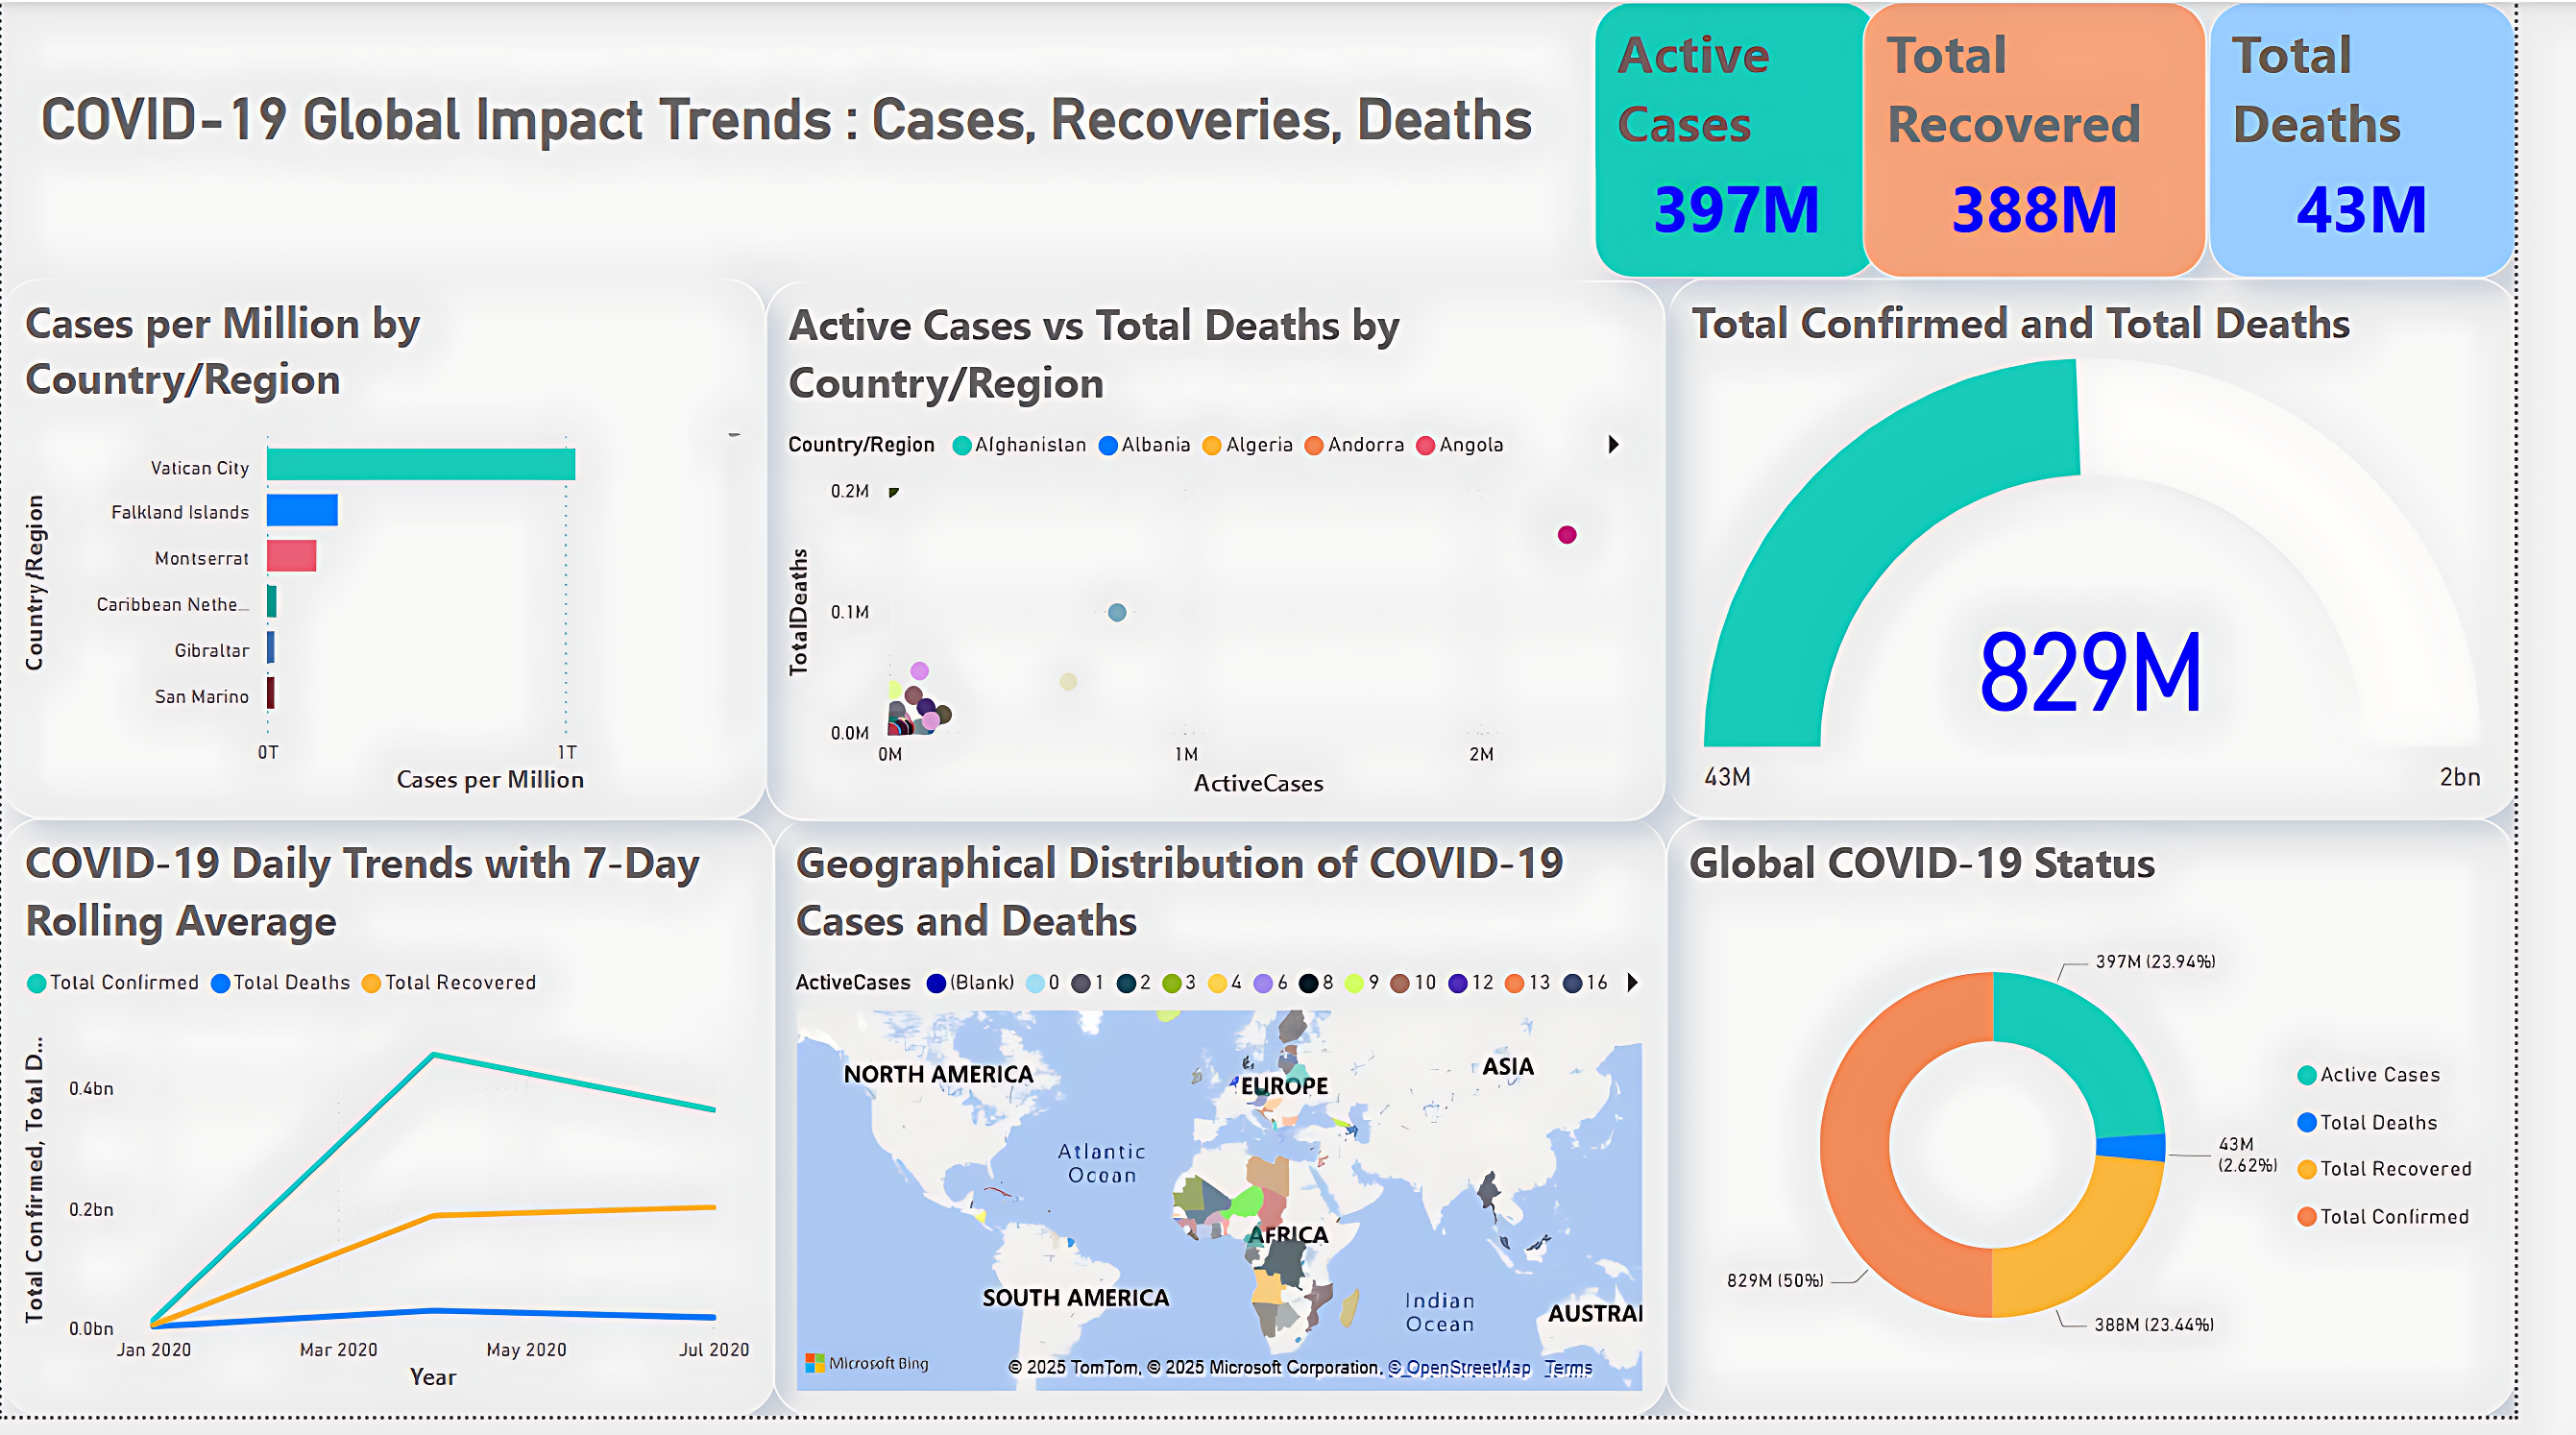

This screenshot's page, from the dashboard's own definition file:
{"tool":"powerbi","page":{"name":"Page 1","canvas":[1280,720],"ordinal":0},"visuals":[{"type":"card","title":"Active Cases","fields":{"Values":["day_wise.Active Cases"]},"box":[810.7,0,145.5,140.6],"z":0},{"type":"card","title":"Total Recovered","fields":{"Values":["day_wise.Total Recovered"]},"box":[948.3,0,174.9,141.2],"z":1000},{"type":"card","title":"Total Deaths","fields":{"Values":["day_wise.Total Deaths"]},"box":[1123.2,0,156.8,141.2],"z":2000},{"type":"clusteredBarChart","fields":{"Category":["worldometer_data.Country/Region"],"Y":["worldometer_data.Cases per Million"]},"box":[0,140.6,388.9,275.1],"z":3000},{"type":"lineChart","title":"COVID-19 Daily Trends with 7-Day Rolling Average","fields":{"Category":["day_wise.Date.Variation.Date Hierarchy.Year","day_wise.Date.Variation.Date Hierarchy.Quarter","day_wise.Date.Variation.Date Hierarchy.Month","day_wise.Date.Variation.Date Hierarchy.Day"],"Y":["day_wise.Total Confirmed","day_wise.Total Deaths","day_wise.Total Recovered"]},"box":[0,416.2,393.3,304],"z":4000},{"type":"gauge","fields":{"Y":["day_wise.Total Confirmed"],"MinValue":["day_wise.Total Deaths"]},"box":[848.1,141.2,431.9,275.1],"z":5000},{"type":"filledMap","title":"Geographical Distribution of COVID-19 Cases and Deaths","fields":{"Category":["worldometer_data (2).Country/Region","worldometer_data (2).TotalCases"],"Series":["worldometer_data (2).ActiveCases"]},"box":[393,416,455,304],"z":6000},{"type":"scatterChart","title":"Active Cases vs Total Deaths by Country/Region","fields":{"Series":["worldometer_data (2).Country/Region"],"X":["worldometer_data (2).ActiveCases"],"Y":["worldometer_data (2).TotalDeaths"]},"box":[388.9,141.8,458.6,275.1],"z":7000},{"type":"donutChart","title":"Global COVID-19 Status","fields":{"Y":["day_wise.Active Cases","day_wise.Total Deaths","day_wise.Total Recovered","day_wise.Total Confirmed"]},"box":[848,416,432,304],"z":8000},{"type":"textbox","box":[0,31.8,810.7,56.3],"z":9000}]}

Visuals, with their boxes in screenshot pixels (x1, y1, x2, y2), scaled from the page's 1280x720 canvas onto the 2576x1435 screenshot:
"Active Cases" card: locate(1632, 0, 1925, 280)
"Total Recovered" card: locate(1908, 0, 2260, 281)
"Total Deaths" card: locate(2260, 0, 2575, 281)
clusteredBarChart - worldometer_data.Country/Region x worldometer_data.Cases per Million: locate(0, 280, 783, 829)
"COVID-19 Daily Trends with 7-Day Rolling Average" lineChart: locate(0, 830, 791, 1434)
gauge - day_wise.Total Confirmed x day_wise.Total Deaths: locate(1707, 281, 2575, 830)
"Geographical Distribution of COVID-19 Cases and Deaths" filledMap: locate(790, 829, 1707, 1434)
"Active Cases vs Total Deaths by Country/Region" scatterChart: locate(783, 282, 1706, 831)
"Global COVID-19 Status" donutChart: locate(1707, 829, 2575, 1434)
textbox: locate(0, 63, 1632, 176)
